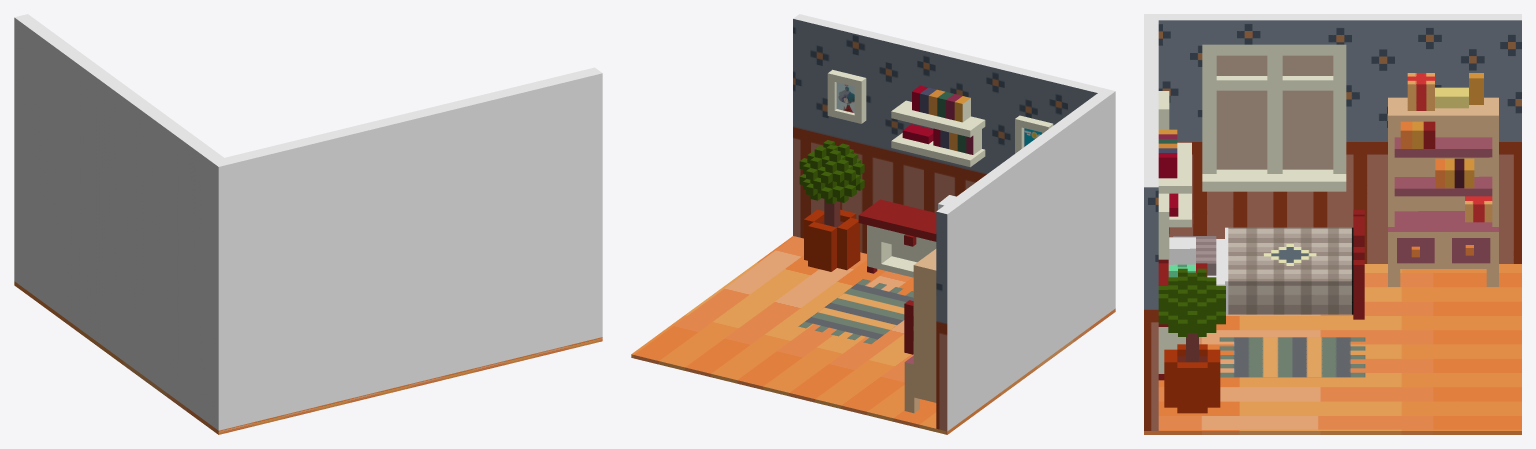
Rendered from room.glb.
3 views of the same model, side by side, from view 1: azimuth 30°, elevation 25°; view 2: azimuth 150°, elevation 25°; view 3: azimuth 270°, elevation 25° (orthographic). The views are drawn at different scales.
Parts seen in each view (by area): view 1: Object_24, Object_5; view 2: Object_24, Object_25, Object_5, Object_31, Object_19, Object_3, Object_6, Object_28, Object_33, Object_27, Object_34, Object_26; view 3: Object_25, Object_5, Object_22, Object_7, Object_19, Object_8, Object_18, Object_31, Object_3, Object_24, Object_6, Object_28 (+12 smaller).
Part boxes in pixels (x1,y1,x2,y2): Object_24: (14,14,602,430); Object_5: (14,281,602,434); Object_24: (793,14,1115,431); Object_25: (793,19,1097,431); Object_5: (631,236,1115,434); Object_31: (827,69,1053,167); Object_19: (904,249,936,413); Object_3: (798,279,913,343); Object_6: (799,140,864,204); Object_28: (804,209,860,271); Object_33: (858,199,936,340); Object_27: (867,225,936,277); Object_34: (902,85,940,146); Object_26: (836,82,1041,146); Object_25: (1144,20,1521,430); Object_5: (1144,264,1521,434); Object_22: (1225,227,1353,314); Object_7: (1216,55,1333,169); Object_19: (1388,97,1498,286); Object_8: (1202,44,1346,173); Object_18: (1388,137,1498,263); Object_31: (1158,76,1346,259); Object_3: (1219,337,1365,377); Object_24: (1144,14,1521,187); Object_6: (1158,268,1225,336); Object_28: (1164,344,1220,413).
Size of the model in its own units: 15 by 10 by 13.83.
Materials: 32 (7 with a texture image).
